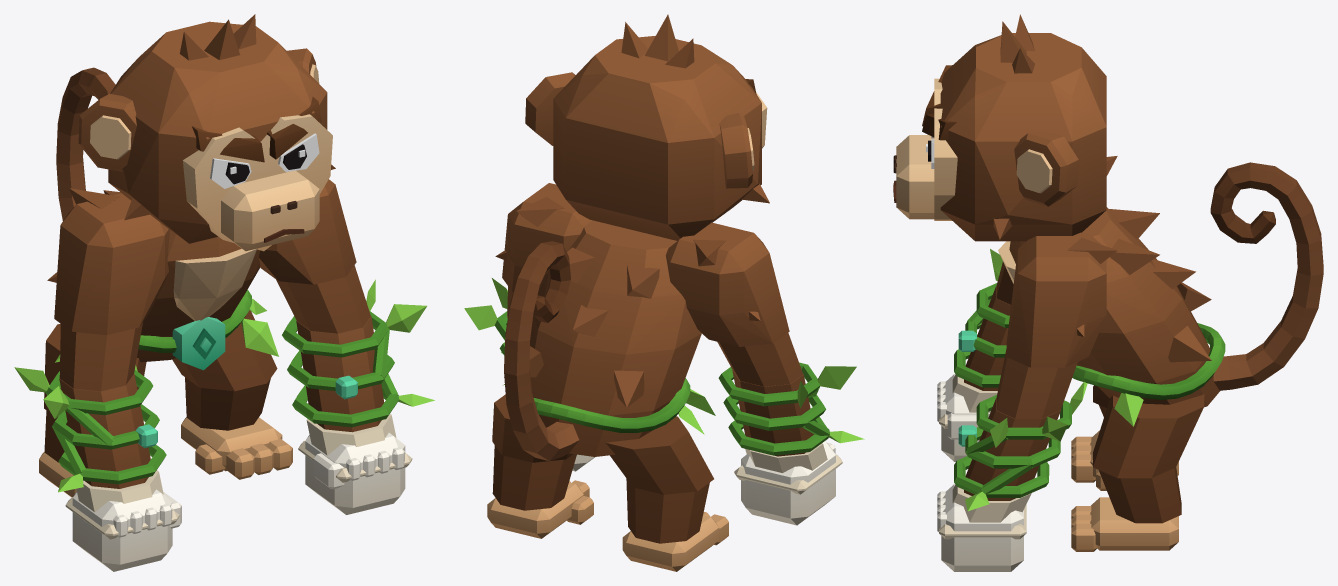
Rendered from MonkeyMauler.glb.
3 views of the same model, side by side, from view 1: azimuth 30°, elevation 25°; view 2: azimuth 150°, elevation 25°; view 3: azimuth 270°, elevation 25° (orthographic). The views are drawn at different scales.
Parts seen in each view (by area): view 1: MonkeyMauler; view 2: MonkeyMauler; view 3: MonkeyMauler.
Part boxes in pixels (left/top/right/bottom): MonkeyMauler: left=14, top=14, right=434, bottom=571; MonkeyMauler: left=464, top=14, right=864, bottom=571; MonkeyMauler: left=893, top=14, right=1323, bottom=571.
Bounding box in the file's own units: 0.8919 × 1.11 × 0.893.
1 material, 1 textured.
